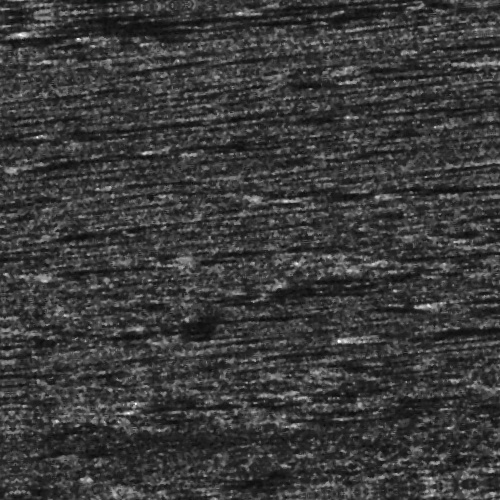shadow: (0, 16, 342, 29)
